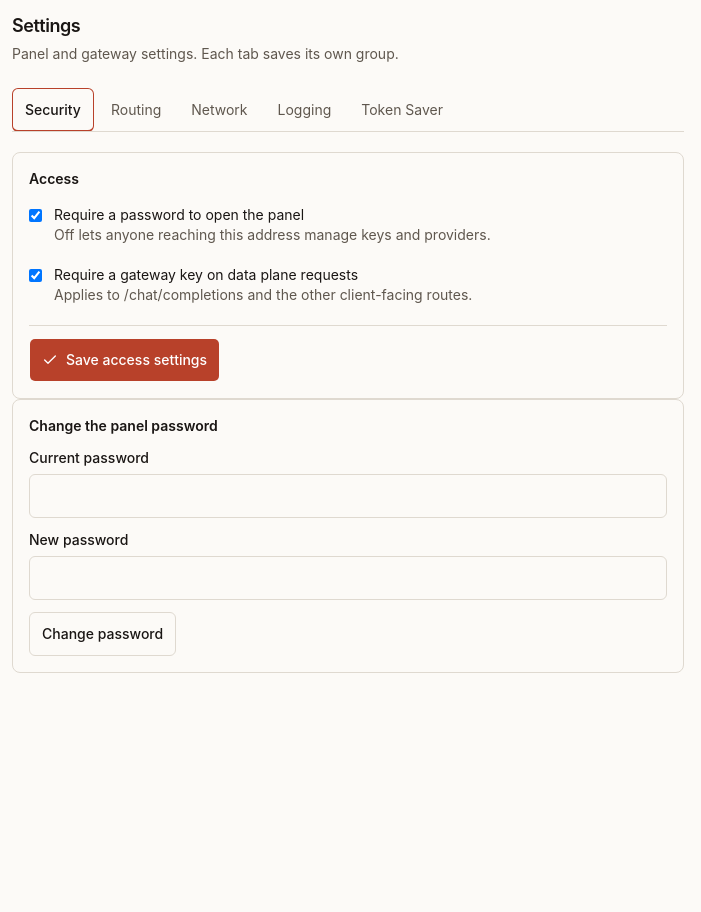
Test: SettingsPage › shows the server message when a save is refused, and keeps the draft
expect the element showing "Security Routing Network Logging Token Saver" is shown: met, box [12,88,684,132]
Click the tab "Routing" at point(136, 110), box [98,88,174,132]
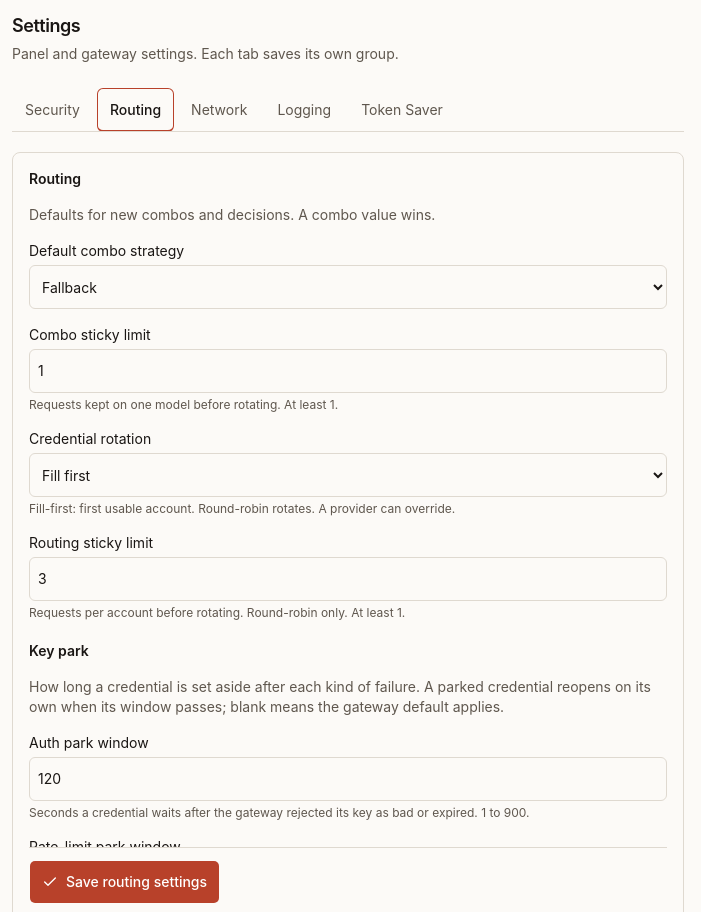
Replace the text in the number field labelled "Routing sticky limit" with "5" at point(348, 579), box [29,557,667,601]
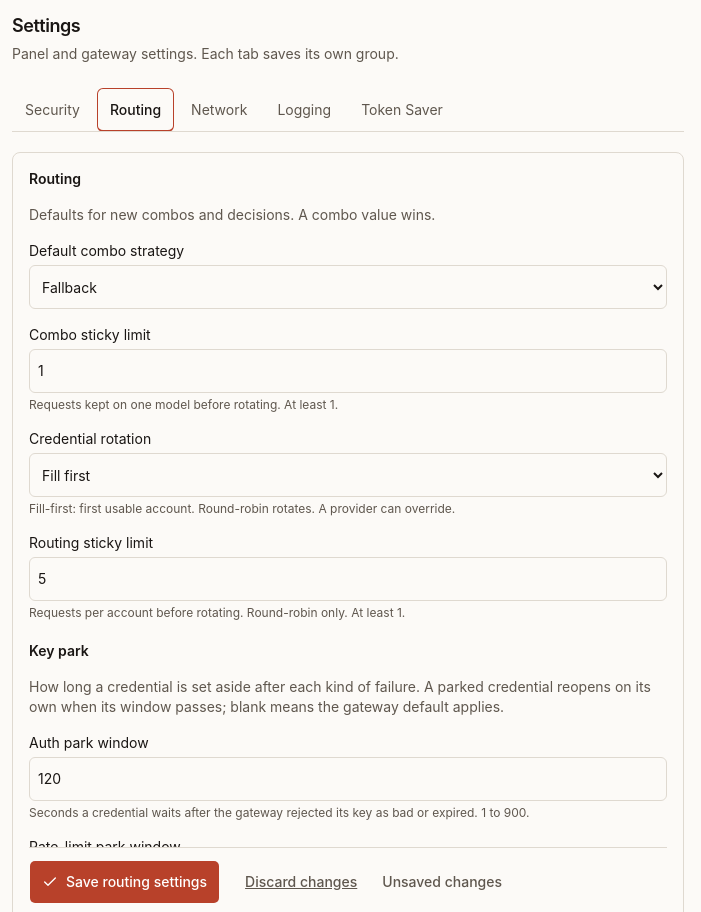
Click the button "Save routing settings" at point(125, 882), box [29,860,220,904]
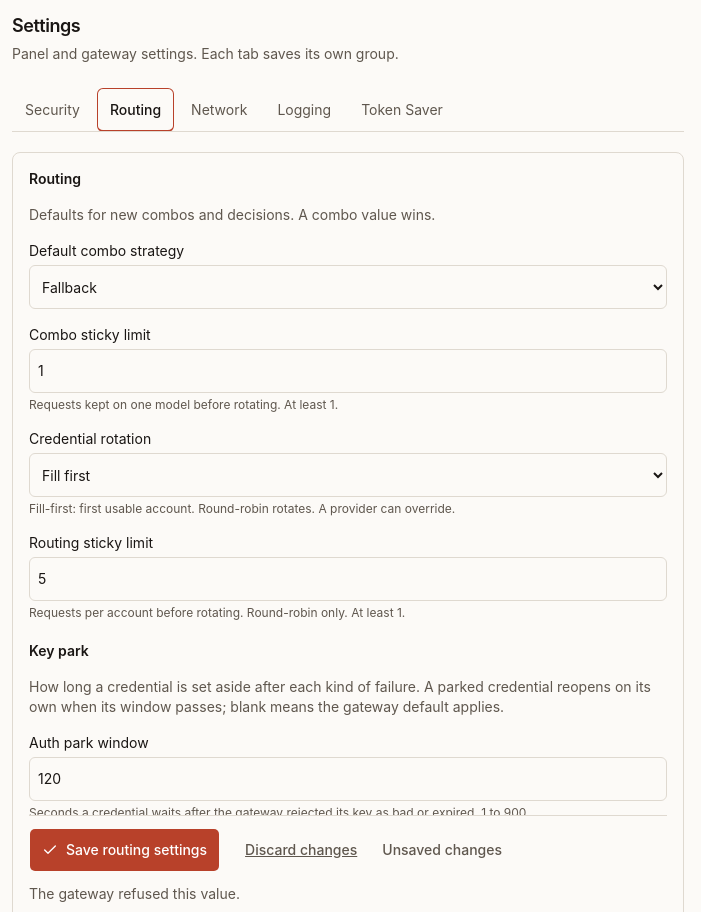
expect the text "The gateway refused this value." is shown: met, box [29,885,240,902]
